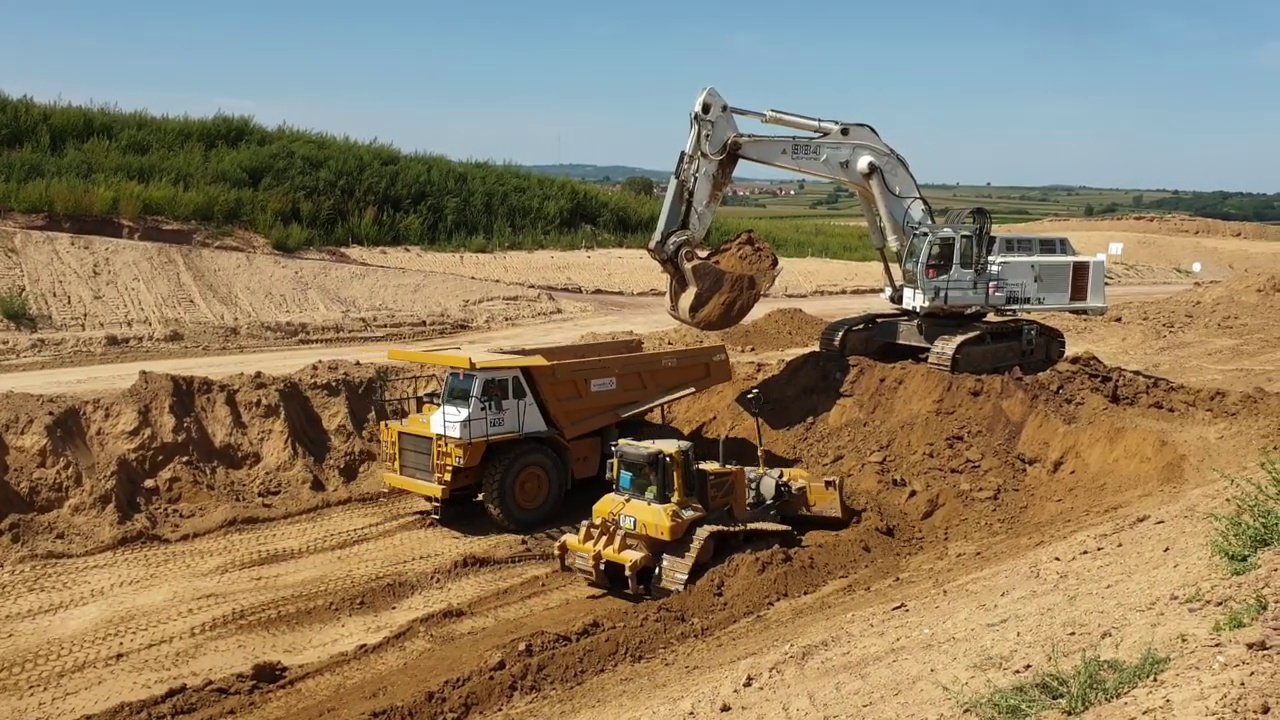bulldozer: (554, 385, 857, 602)
excavator: (645, 82, 1116, 381)
truck: (366, 337, 735, 537)
